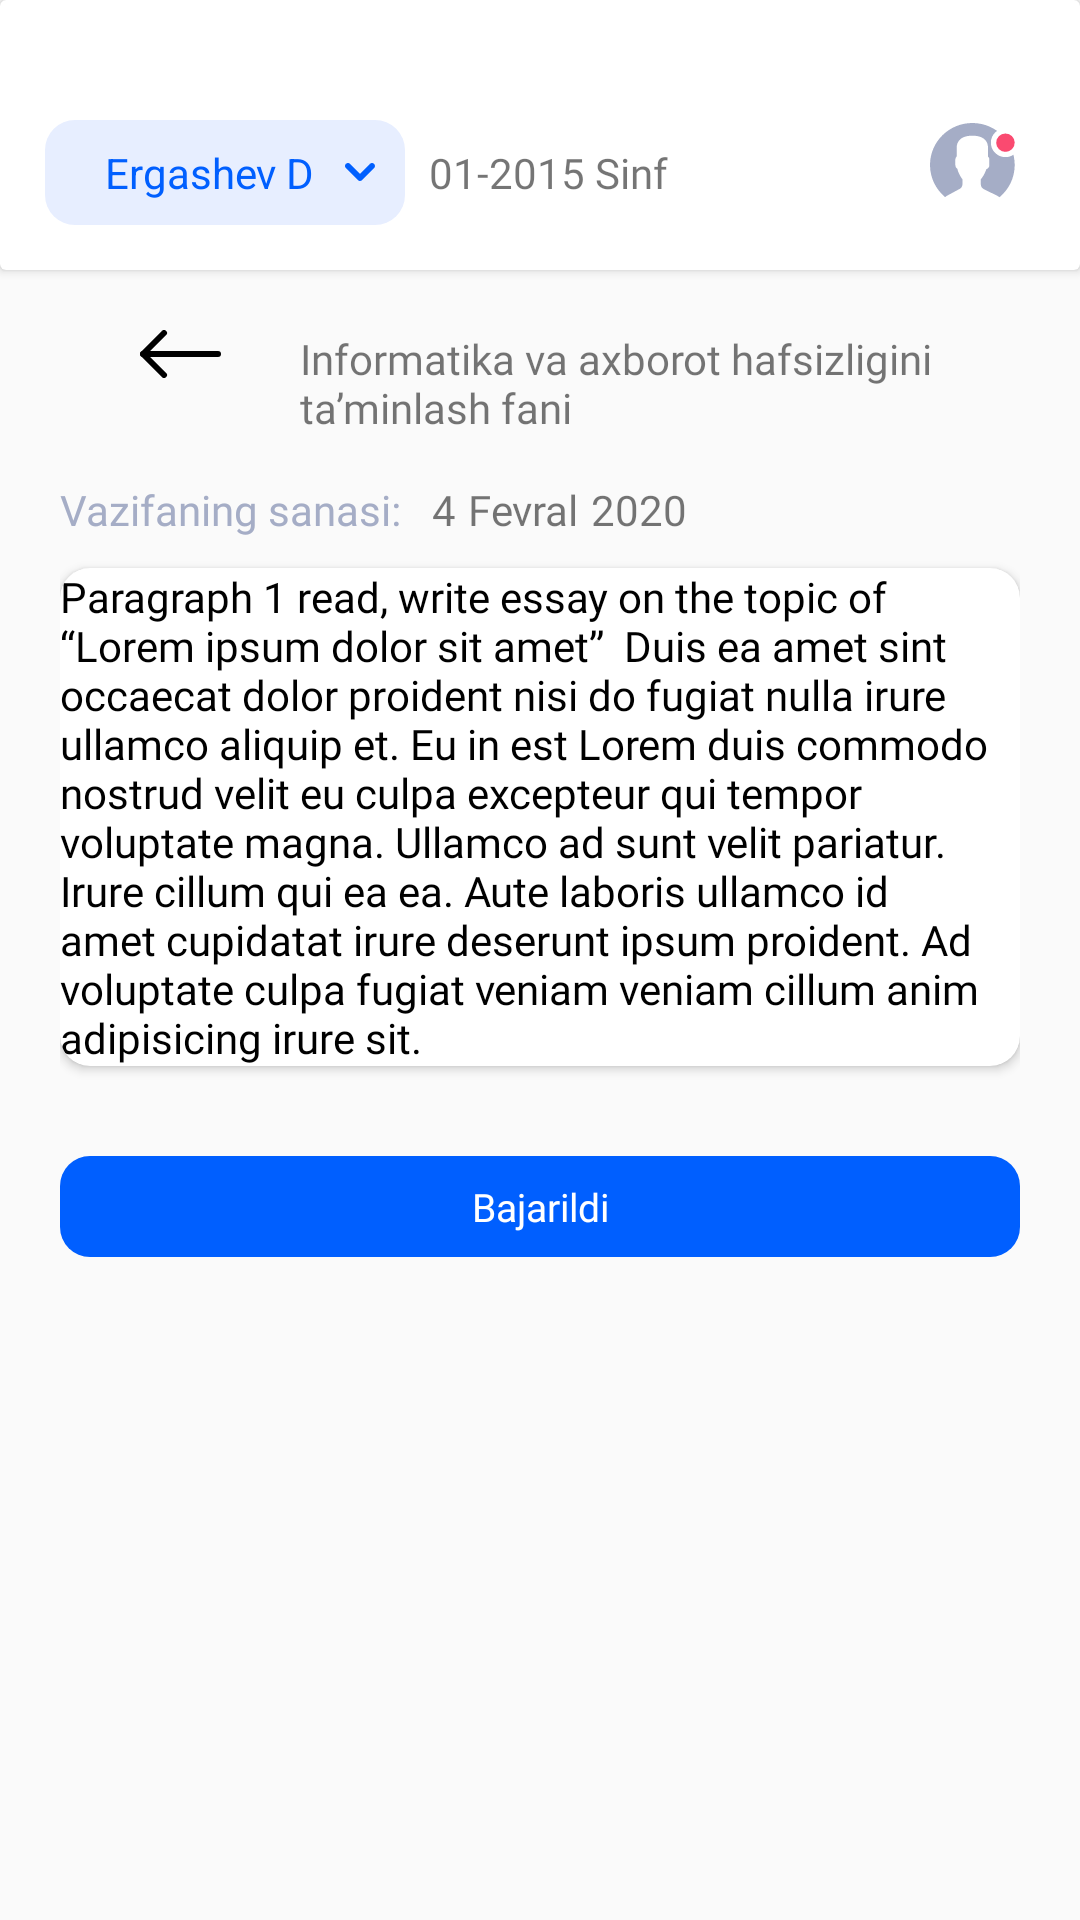

Icons on this 1080×1920 Android screen, each with the point to tap as point (x, y):
back: point (180, 354)
peoplee: point (972, 160)
